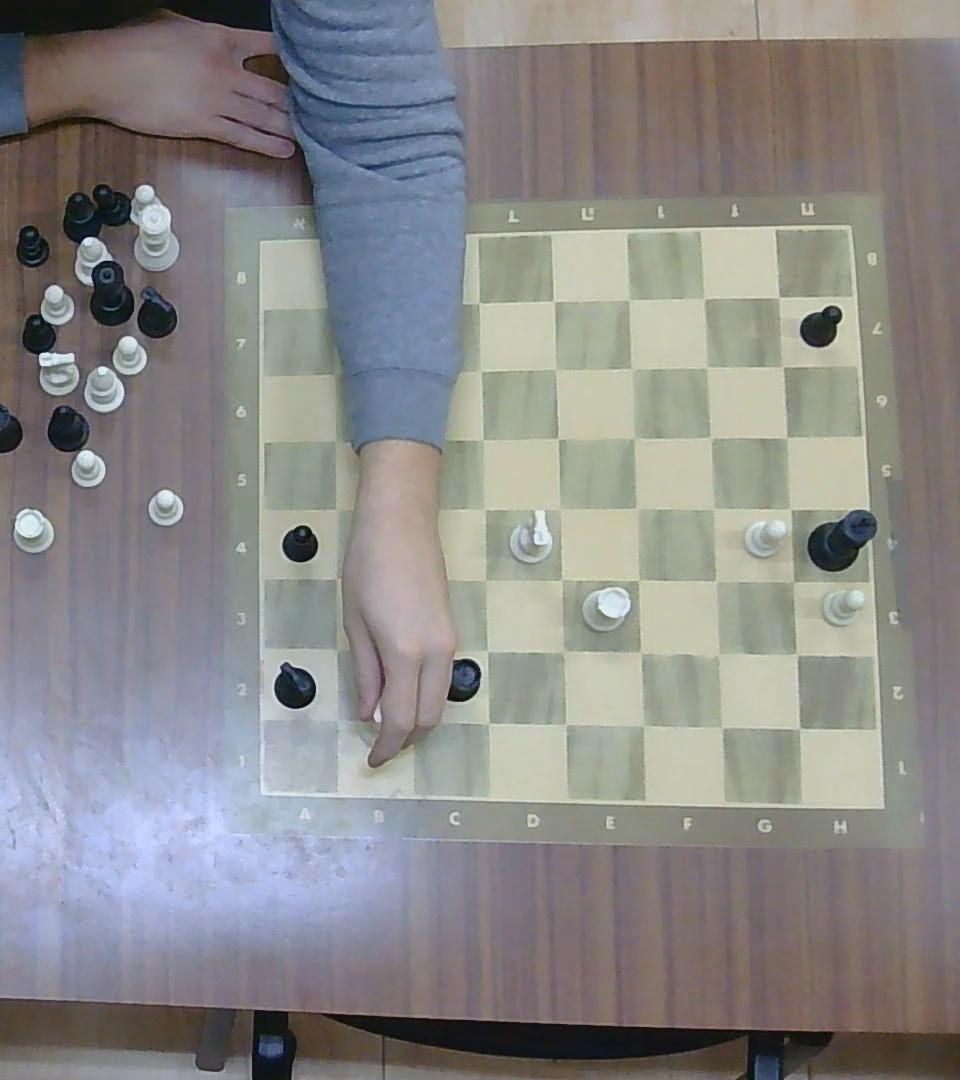xcorner: (781, 710, 815, 744), (702, 637, 734, 671), (626, 707, 658, 740), (705, 708, 736, 742), (393, 286, 424, 320), (776, 564, 808, 596), (318, 289, 350, 321), (548, 707, 579, 740), (615, 281, 645, 315), (625, 635, 656, 667), (699, 564, 730, 596), (781, 638, 812, 670), (775, 492, 806, 523), (320, 357, 351, 388), (548, 635, 578, 667), (698, 491, 728, 523), (622, 564, 652, 596), (547, 564, 577, 596), (539, 284, 569, 316), (622, 492, 652, 523), (618, 352, 648, 383), (321, 703, 351, 734), (473, 706, 502, 738), (465, 354, 495, 384), (322, 561, 351, 592), (322, 632, 351, 663), (397, 706, 426, 737), (471, 565, 500, 595), (472, 636, 501, 666), (691, 283, 720, 313), (768, 351, 798, 380), (399, 636, 428, 666), (698, 421, 726, 452), (465, 286, 493, 317), (620, 422, 649, 451), (693, 351, 722, 380), (542, 353, 571, 382), (765, 282, 794, 311), (545, 494, 573, 524), (323, 494, 351, 524), (399, 494, 427, 524), (544, 424, 573, 452), (772, 421, 801, 449), (469, 424, 497, 453), (471, 495, 499, 523), (400, 565, 426, 595), (396, 424, 422, 453), (323, 426, 349, 454), (395, 355, 420, 383)
